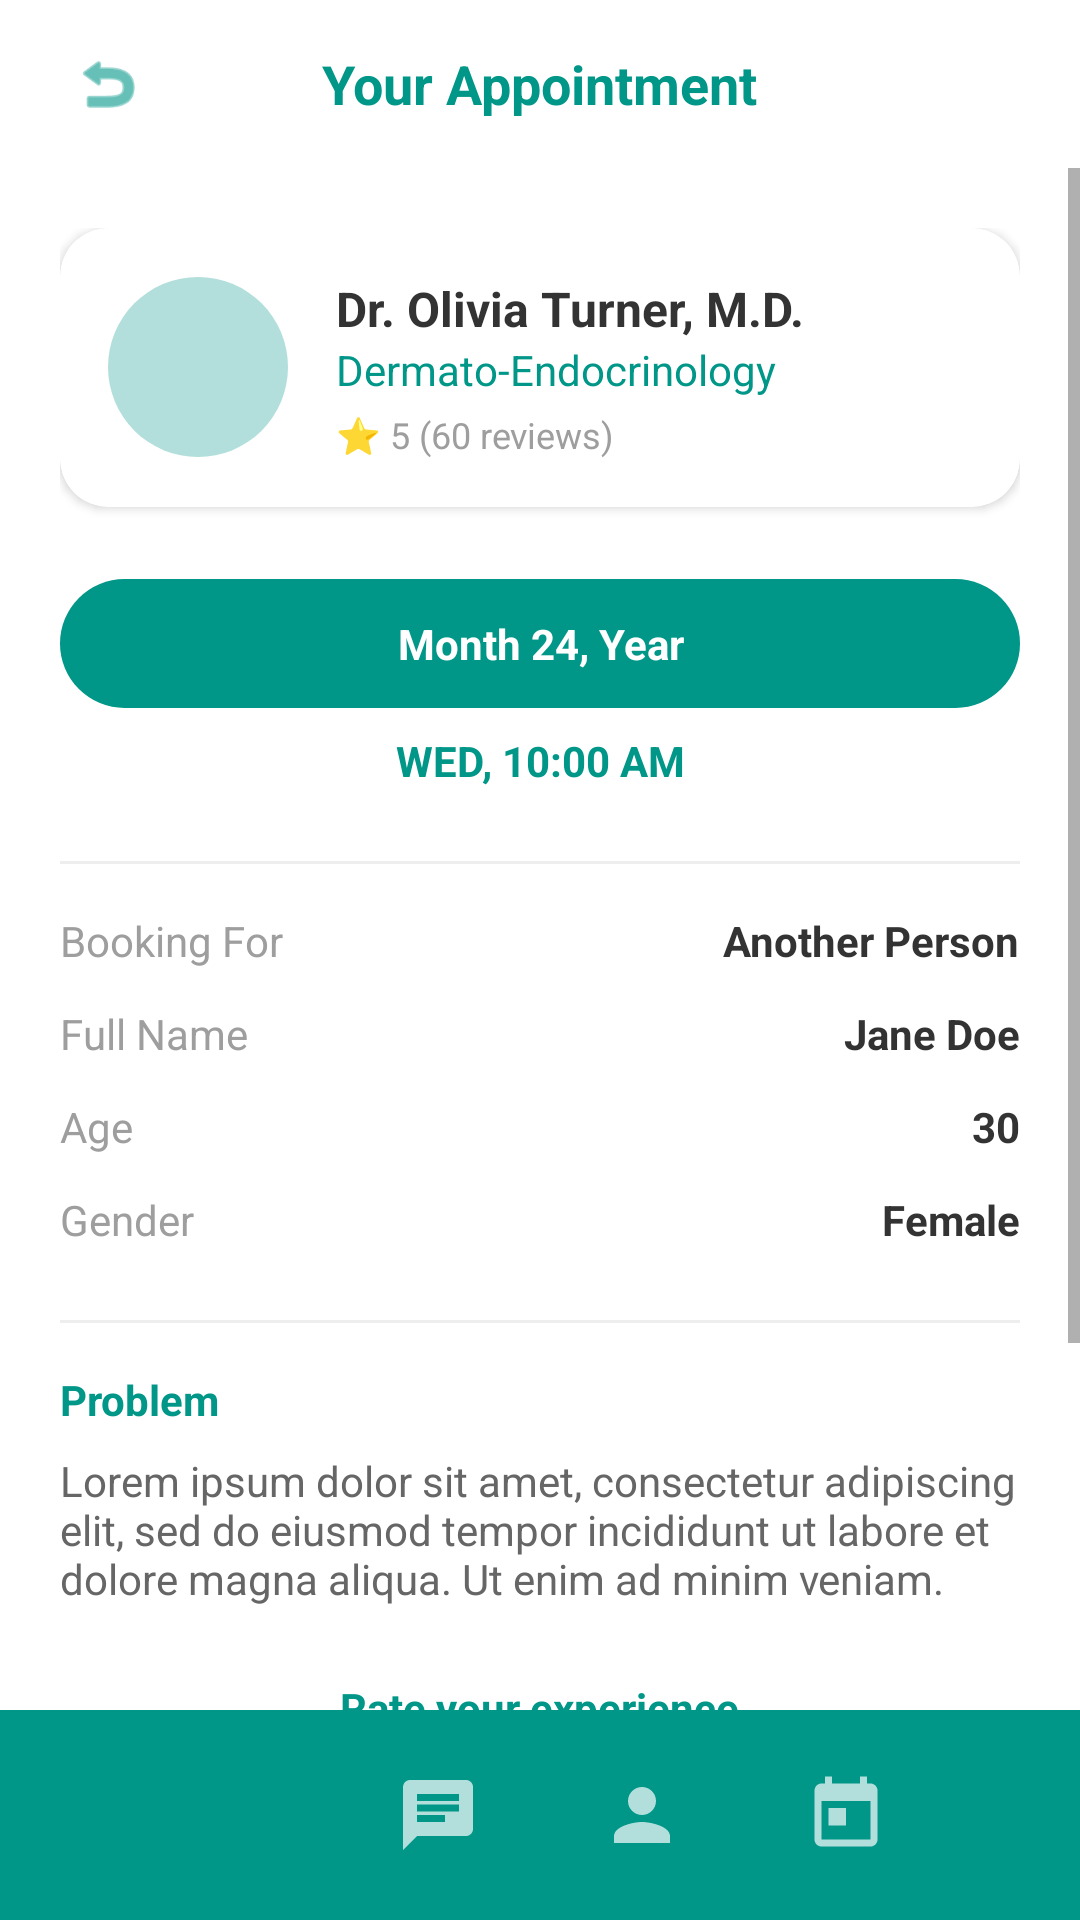

Icons on this 1080 × 1920 Android screen, each with the point to tap as point (x, y):
calendar: point (846, 1811)
chat: point (438, 1815)
profile: point (642, 1815)
revert: point (109, 84)
